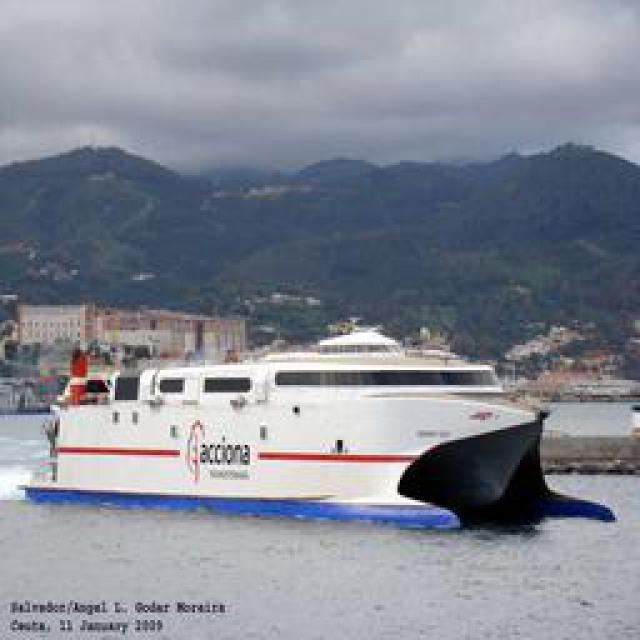Ship: (22, 344, 545, 519)
